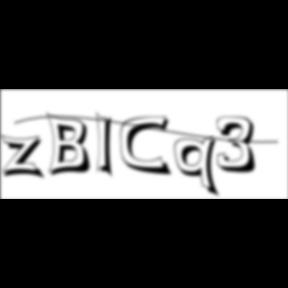3: (217, 116, 263, 176)
B: (46, 111, 96, 179)
C: (120, 115, 176, 178)
I: (96, 110, 120, 182)
q: (174, 135, 224, 200)
z: (0, 134, 50, 182)
